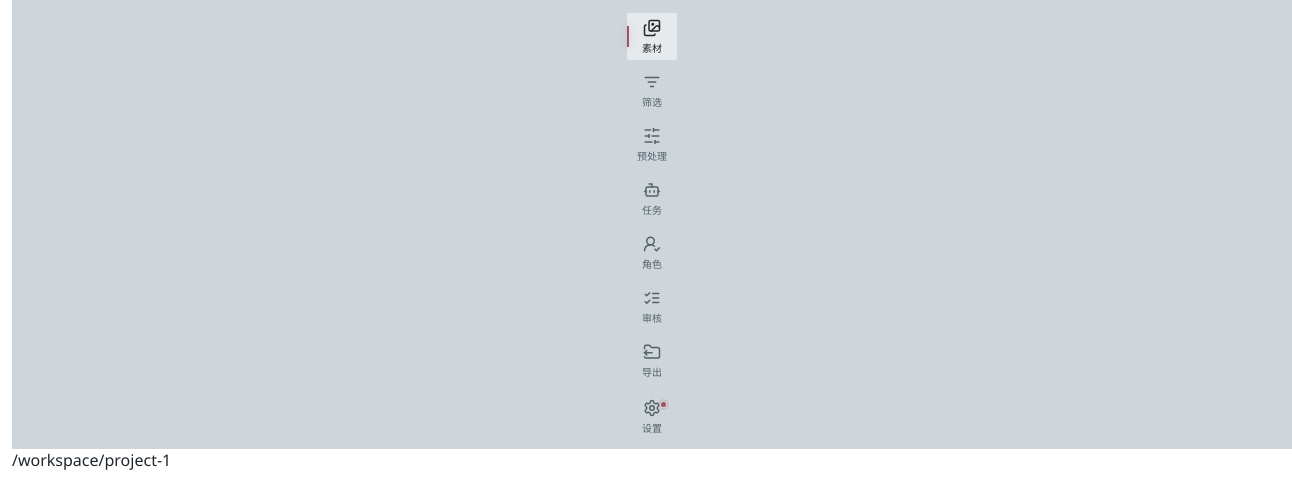
Test: legacy screening workspace › adds screening between assets and preprocessing in the primary rail
Click the button "筛选" at (652, 90), box [627,67,677,114]
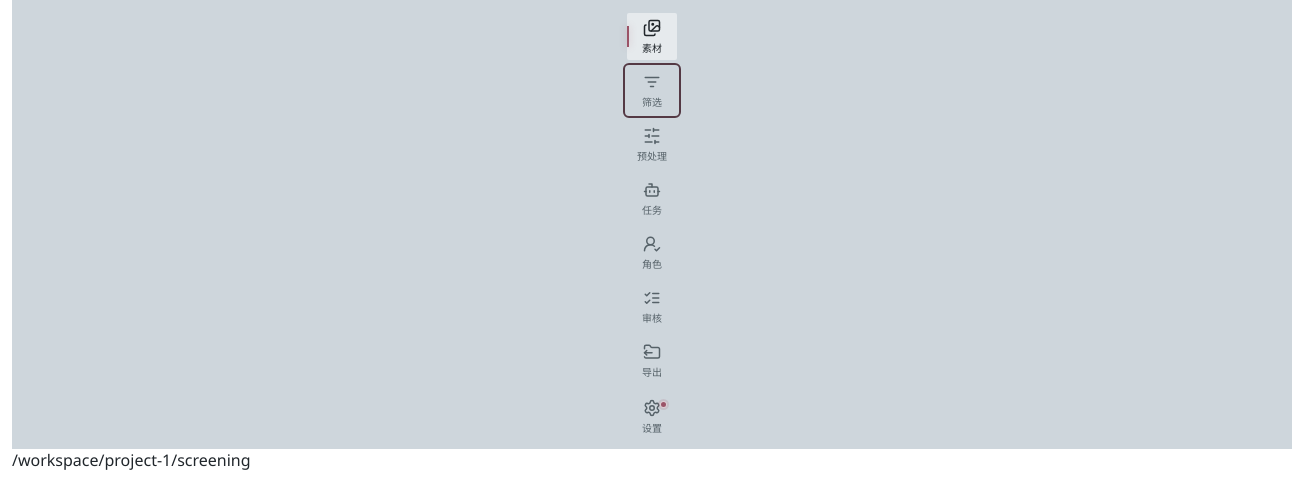
Expected: the text named "当前位置" reads "/workspace/project-1/screening", [12,449,251,471]
